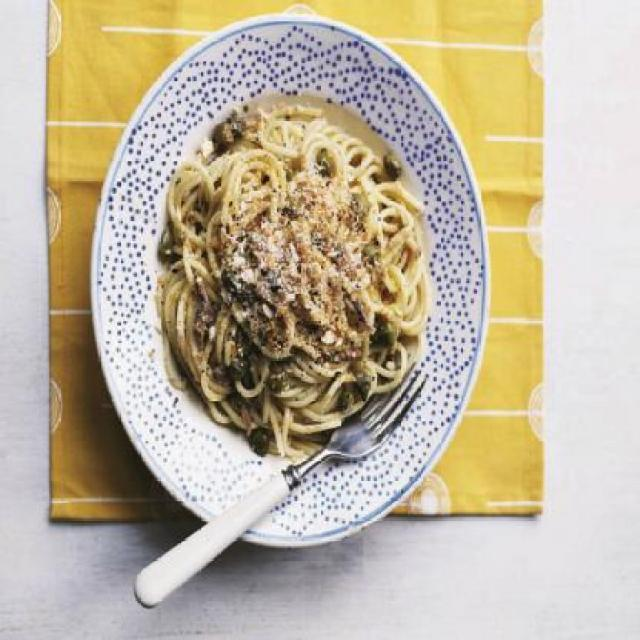Oil pasta: (143, 66, 474, 509)
